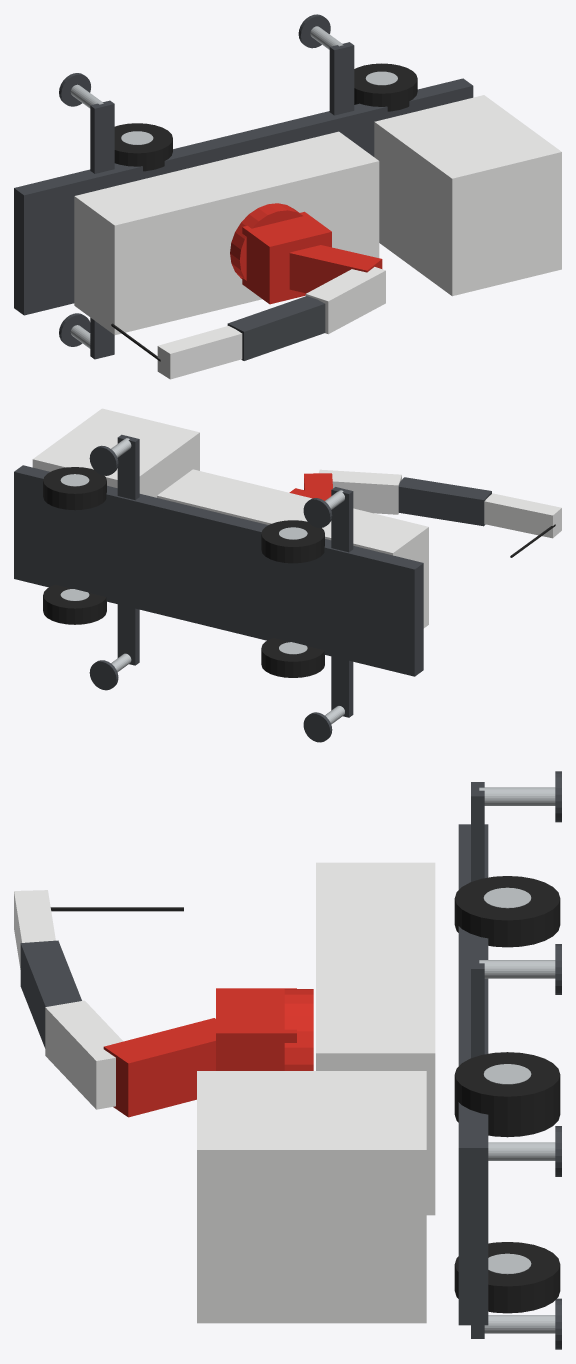
File: ENMAX_EM160ZB4_HD.glb
The picture shows the model from 3 angles, top to bottom: view 1: azimuth 30°, elevation 25°; view 2: azimuth 150°, elevation 25°; view 3: azimuth 270°, elevation 25°; orthographic projection. The views are drawn at different scales.
Visible parts, largest first — view 1: body, cab, chassis, ped, boom2, boom1, boom3, boom0, cross-2.8, wheel31.23, wheel-1.91.23, cross2 (+4 smaller); view 2: chassis, body, cab, boom2, cross-2.8, cross2, boom3, boom1, wheel31.23, wheel-1.91.23, wheel3-1.23, wheel-1.9-1.23 (+5 smaller); view 3: cab, body, chassis, boom0, ped, wheel31.23, boom1, wheel-1.91.23, wheel3-1.23, boom2, slew, boom3 (+10 smaller).
Part boxes in pixels (x1,y1,x2,y2): body: (74, 131, 379, 334); cab: (374, 95, 561, 296); chassis: (14, 78, 473, 315); ped: (242, 211, 331, 304); boom2: (227, 296, 325, 360); boom1: (305, 267, 385, 334); boom3: (157, 326, 242, 379); boom0: (289, 245, 382, 293); cross-2.8: (90, 100, 114, 359); wheel31.23: (354, 63, 417, 111); wheel-1.91.23: (114, 123, 172, 171); cross2: (329, 42, 354, 115); chassis: (14, 465, 423, 676); body: (157, 469, 428, 628); cab: (32, 408, 199, 497); boom2: (398, 477, 491, 526); cross-2.8: (331, 487, 353, 717); cross2: (117, 434, 139, 665); boom3: (484, 493, 561, 538); boom1: (319, 469, 401, 514); wheel31.23: (43, 467, 106, 510); wheel-1.91.23: (261, 520, 324, 563); wheel3-1.23: (43, 584, 106, 624); wheel-1.9-1.23: (261, 638, 324, 677); cab: (197, 1071, 426, 1323); body: (316, 862, 435, 1215); chassis: (458, 824, 488, 1325); boom0: (103, 1018, 215, 1117); ped: (216, 988, 296, 1070); wheel31.23: (454, 1052, 560, 1123); boom1: (45, 1000, 123, 1109); wheel-1.91.23: (454, 876, 560, 947); wheel3-1.23: (454, 1242, 560, 1313); boom2: (20, 940, 81, 1048); slew: (284, 989, 313, 1070); boom3: (14, 890, 55, 969).
Size of the model in its own units: 9.12 by 5.2 by 6.44.
